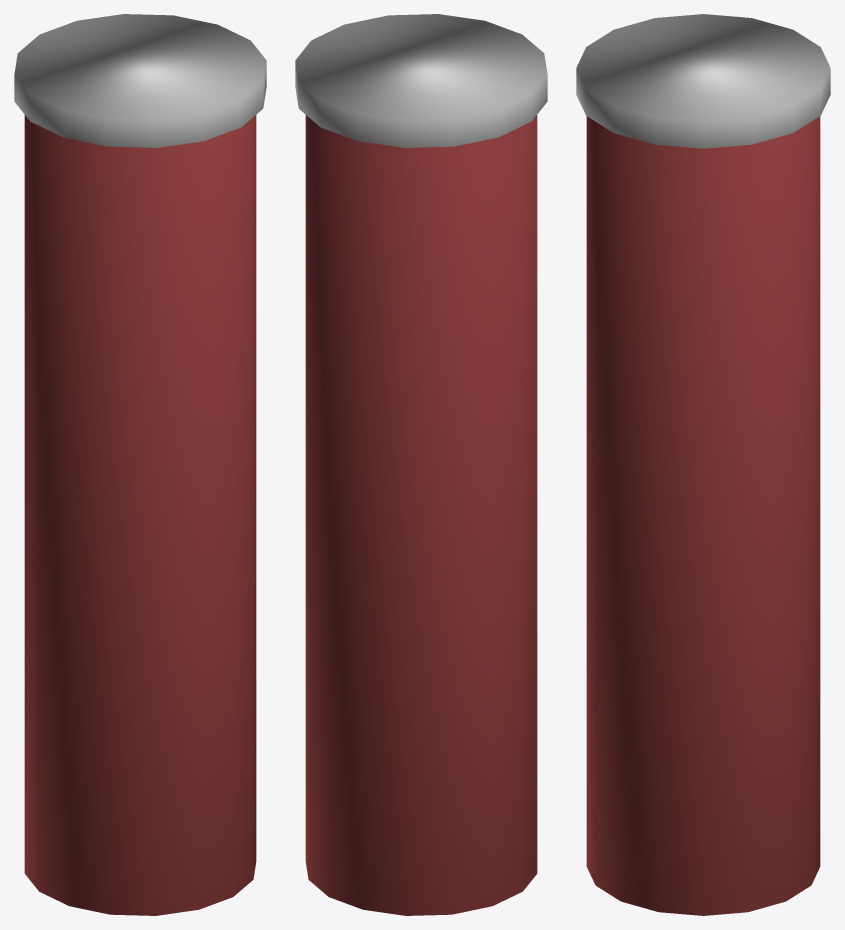
The model's file is Pringles.fbx.
3 views of the same model, side by side, from view 1: azimuth 30°, elevation 25°; view 2: azimuth 150°, elevation 25°; view 3: azimuth 270°, elevation 25° (orthographic).
Parts seen in each view (by area): view 1: Pringles; view 2: Pringles; view 3: Pringles.
Part boxes in pixels (x1=…): Pringles: x1=14, y1=14, x2=266, y2=915; Pringles: x1=295, y1=14, x2=547, y2=915; Pringles: x1=576, y1=14, x2=830, y2=915.
Size of the model in its own units: 8.7 by 30.18 by 8.7.
